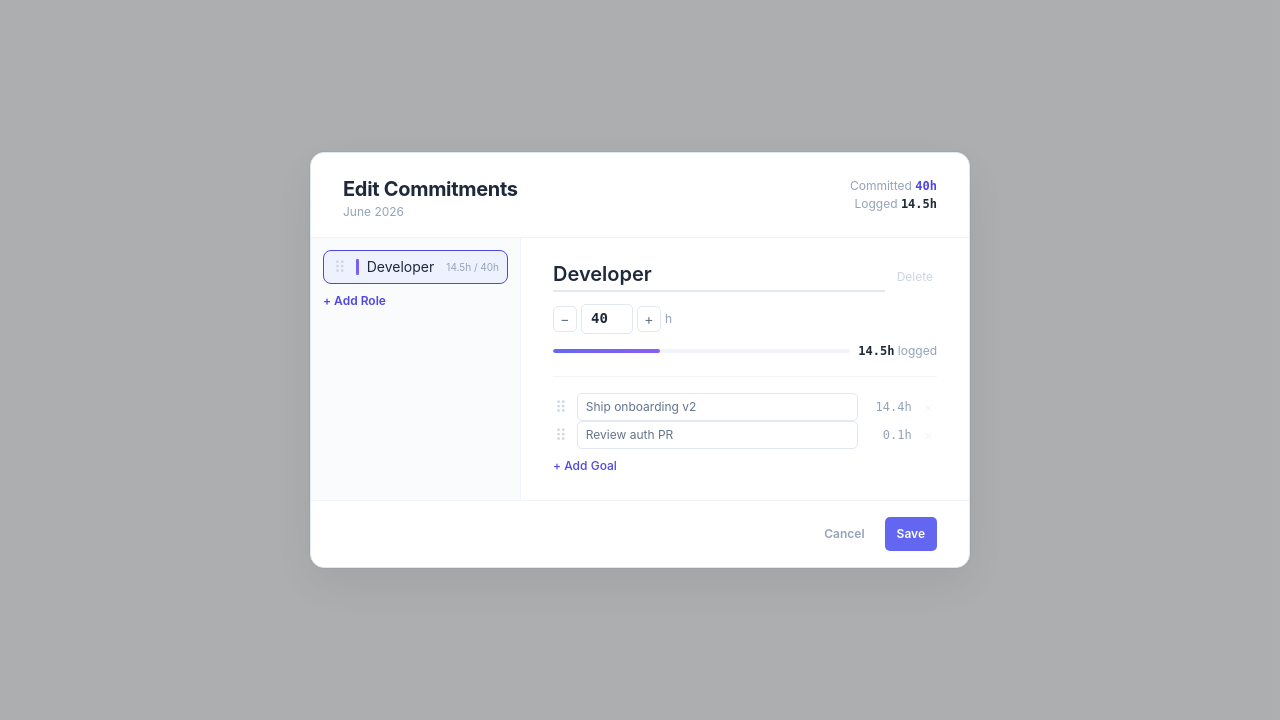
Test: CommitmentsModal — base › adds a goal row on + Add Goal
Click the button with test id "add-goal".
click(585, 466)  # box [553,457,617,475]
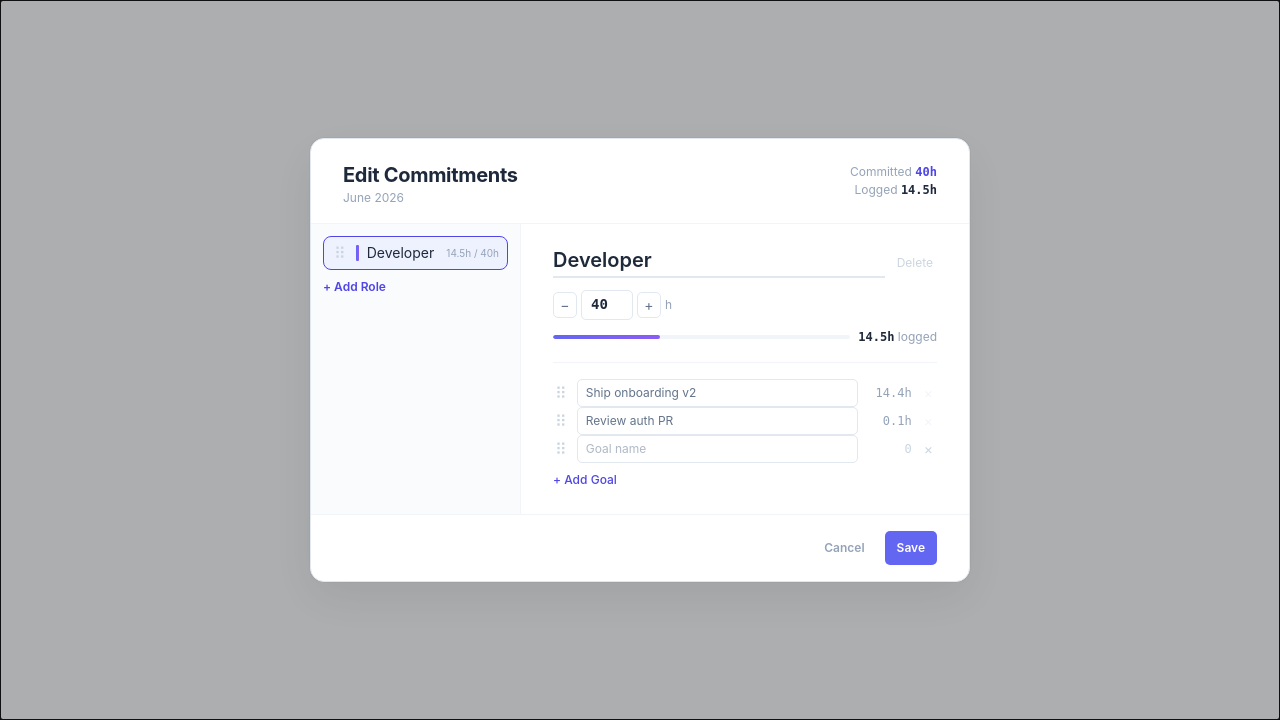
expect the number of fields with test id "goal-name" is 3: met, box [577,379,858,407]; [577,407,858,435]; [577,435,858,463]
